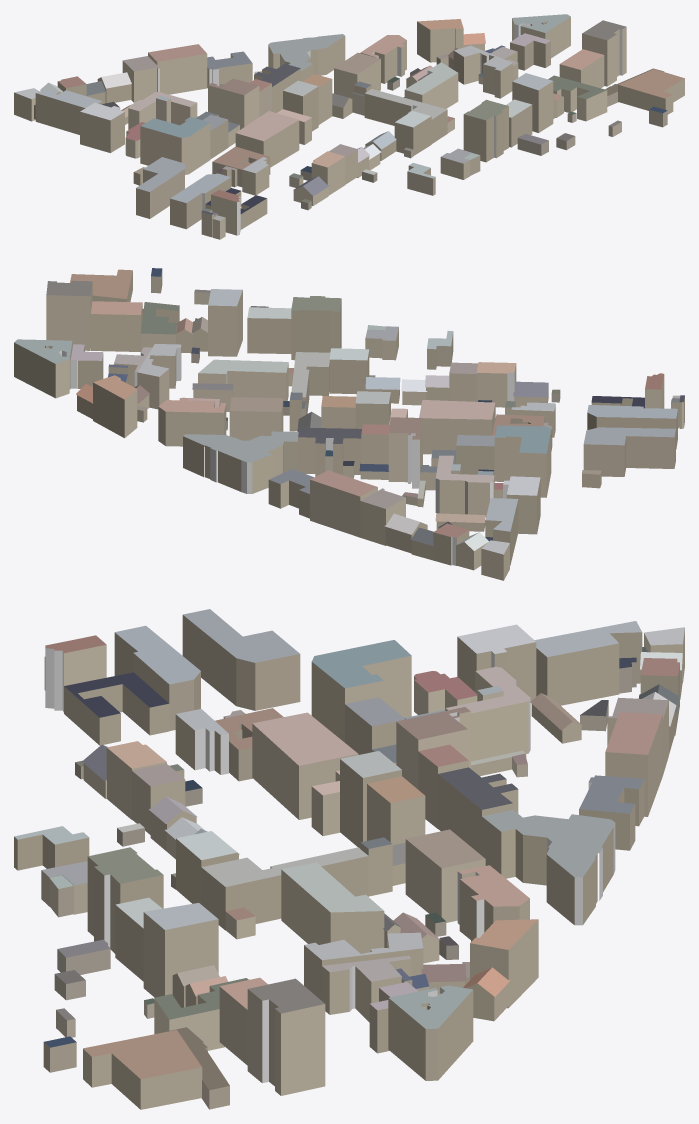
3 renders of one model, top to bottom at view 1: azimuth 30°, elevation 25°; view 2: azimuth 150°, elevation 25°; view 3: azimuth 270°, elevation 25°, orthographic. The views are drawn at different scales.
Parts seen in each view (by area): view 1: tuile; view 2: tuile; view 3: tuile.
Boxes of the visible parts, x1,y1,x2,y2 form: tuile: [14, 14, 684, 239]; tuile: [14, 268, 684, 580]; tuile: [14, 609, 684, 1109].
Bounding box in the file's own units: 266 × 24.15 × 164.
